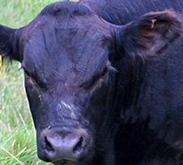muzzles: (34, 126, 95, 164)
